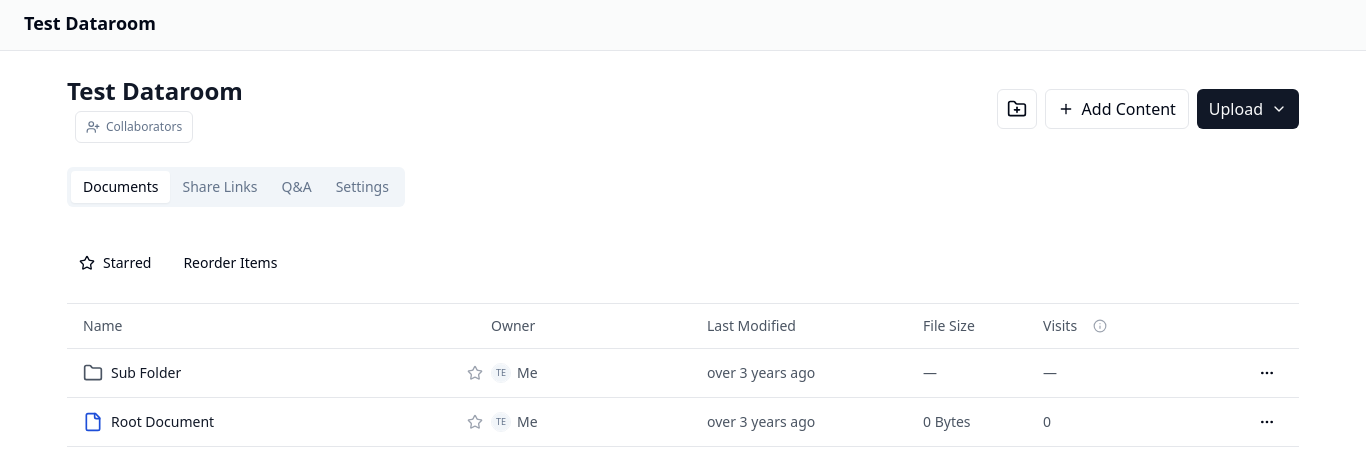
Test case: DataroomPage › Folder Navigation › should navigate into a folder and see its content
Note: Wait for initial content and click the folder
Click the button "Sub Folder" at (146, 373), box [111,363,181,383]
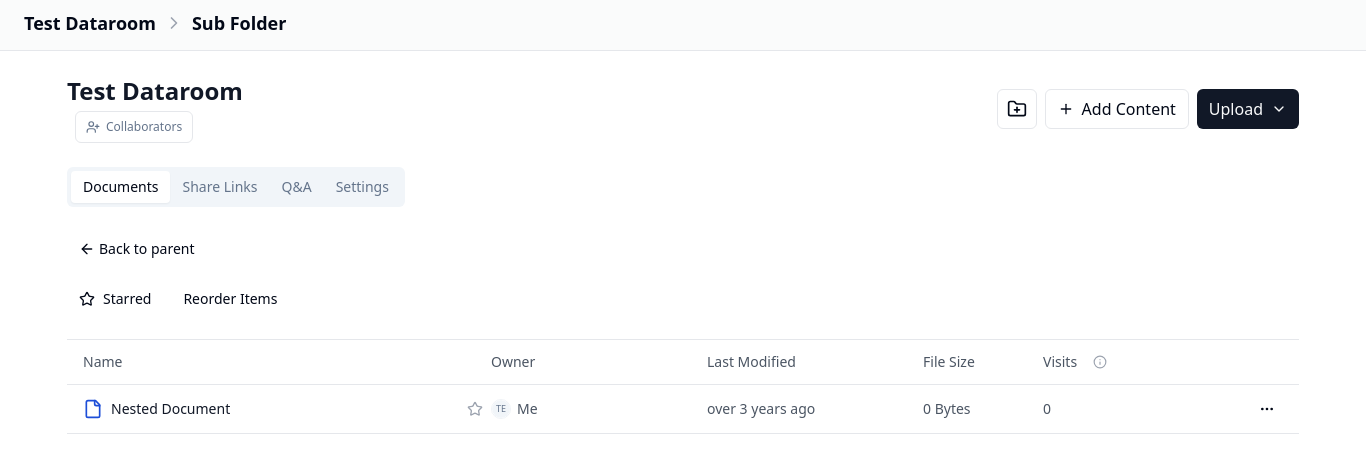
Expected: the button "Nested Document" is shown, [111,399,230,419]
Expected: the button "Root Document" is gone
